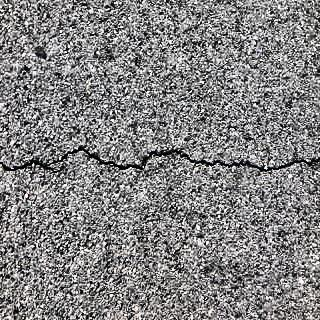crack: (0, 135, 320, 177)
